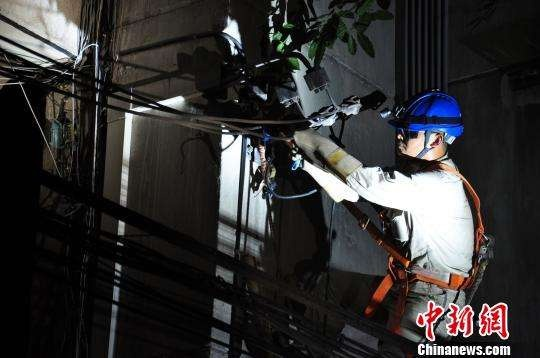blue: (396, 91, 459, 165)
